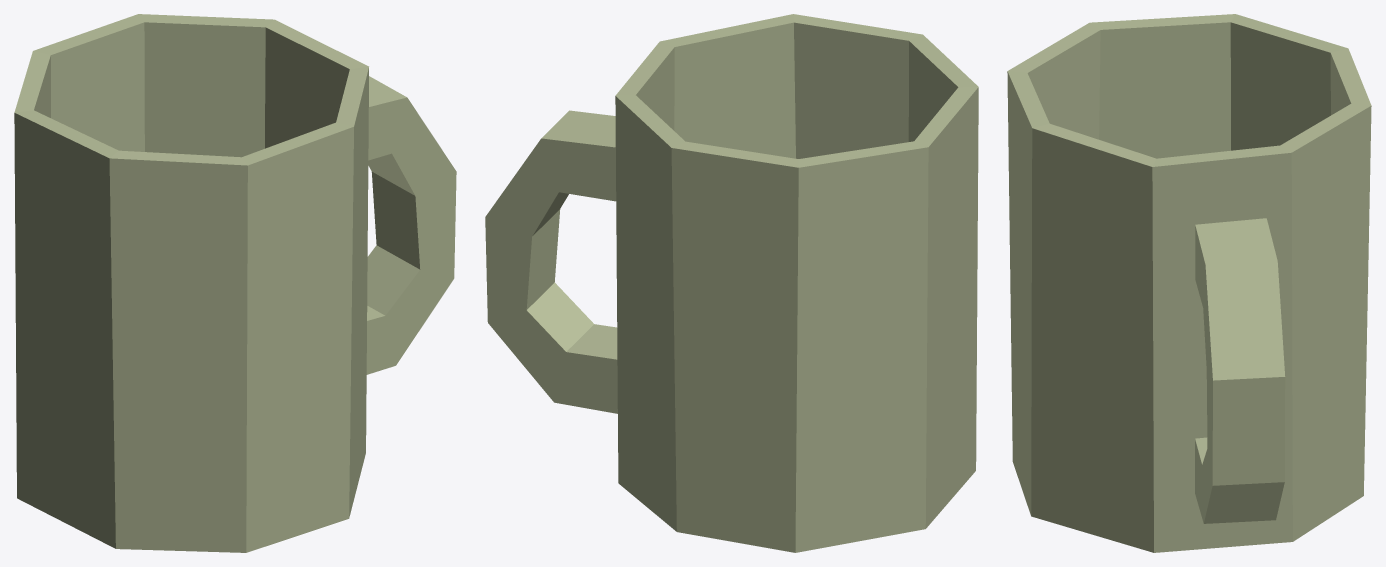
Rendered from Kitchen_2_Cup.fbx.
3 views of the same model, side by side, from view 1: azimuth 30°, elevation 25°; view 2: azimuth 150°, elevation 25°; view 3: azimuth 270°, elevation 25° (orthographic).
Parts seen in each view (by area): view 1: Kitchen_2_Cup; view 2: Kitchen_2_Cup; view 3: Kitchen_2_Cup.
Part boxes in pixels (x1,y1,x2,y2): Kitchen_2_Cup: (14, 14, 456, 552); Kitchen_2_Cup: (485, 14, 978, 552); Kitchen_2_Cup: (1007, 14, 1371, 552).
Bounding box in the file's own units: 19.19 × 16.92 × 14.02.
